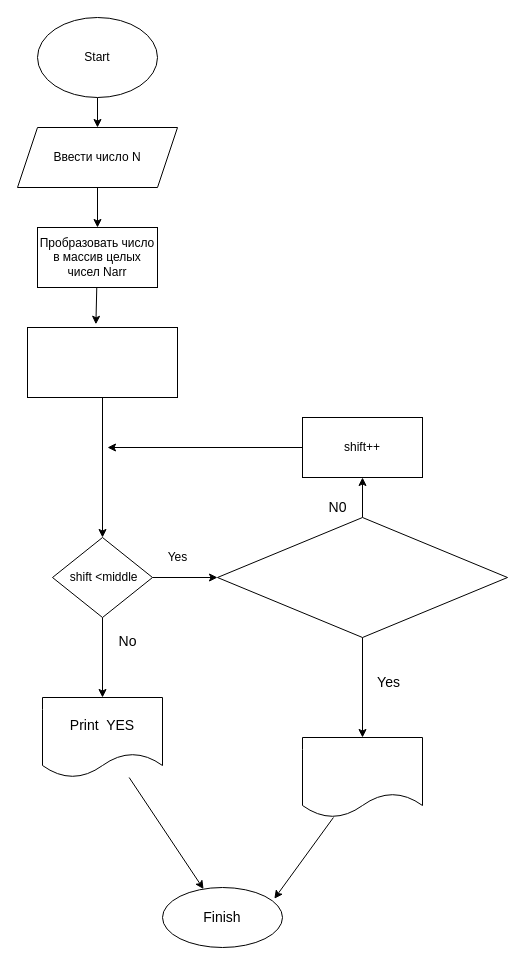
Image size: 525x965. Some labels were removed from this diagram. Each missing label, with the centre of its shape:
int middle= Narr.Length/2 shift = 0: (102,362)
Narr [ middle + shift ]!= N arr [ middle - shift - 1]: (362,577)
Print NO: (362,777)
